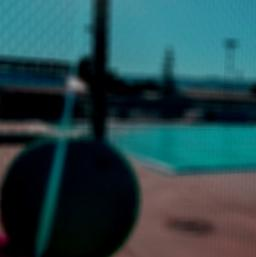algae: (1, 132, 139, 257)
